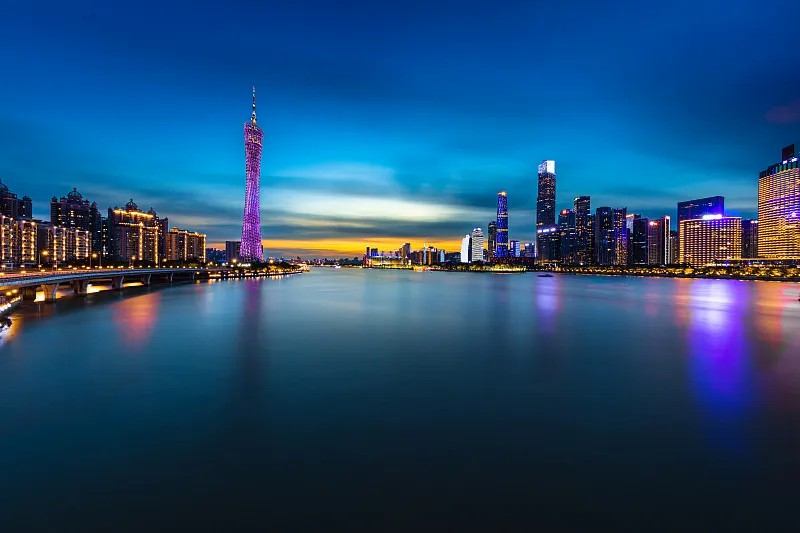Canton: (239, 87, 264, 263)
